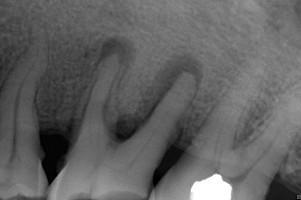Dental Caries: (111, 54, 205, 143), (91, 35, 138, 87)
